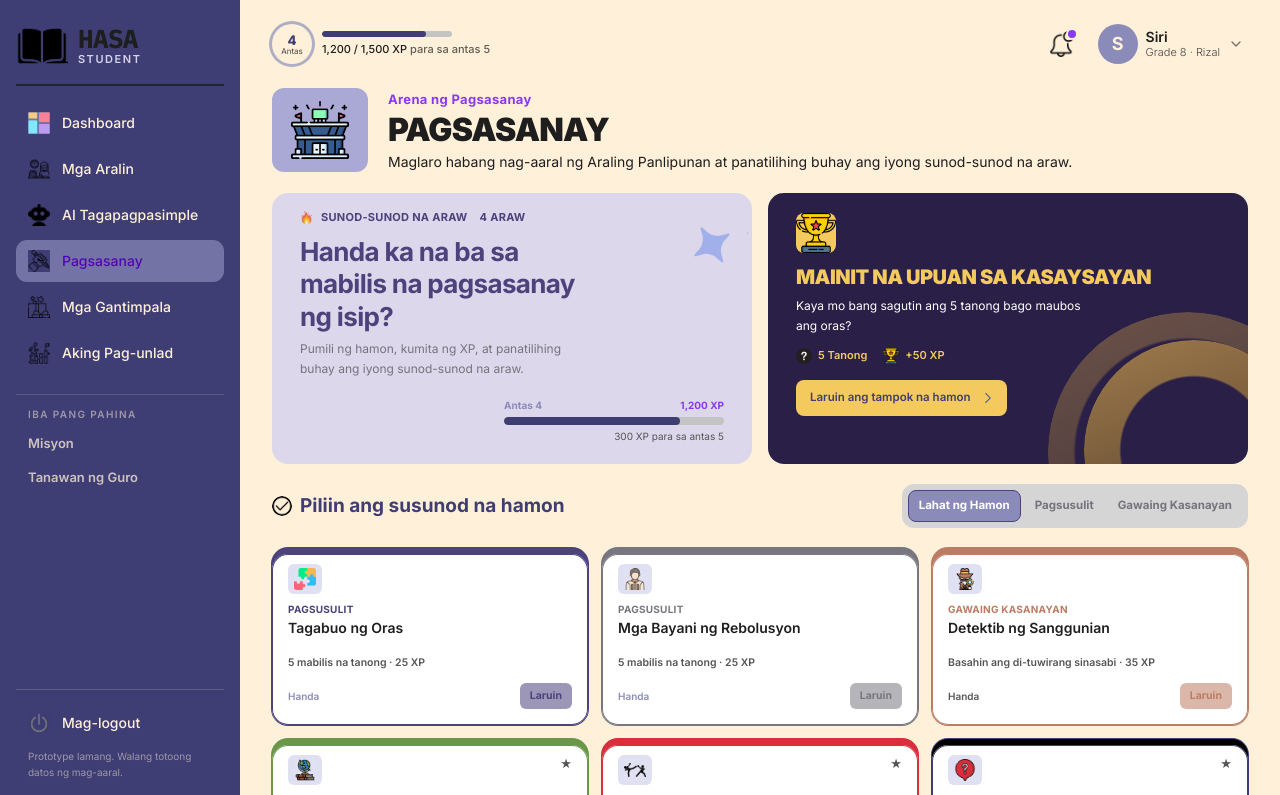
Test: katapatan ng prototype › nagbubukas ng totoong activity mula sa Pagsasanay
Expected: the button with aria-label "Laruin ang" is enabled, [520,683,572,709]
What coordinates should you click on to do the following:
click the button "Laruin ang tampok na hamon"
I would click on:
 (901, 398)
Its box is [796,380,1007,416].
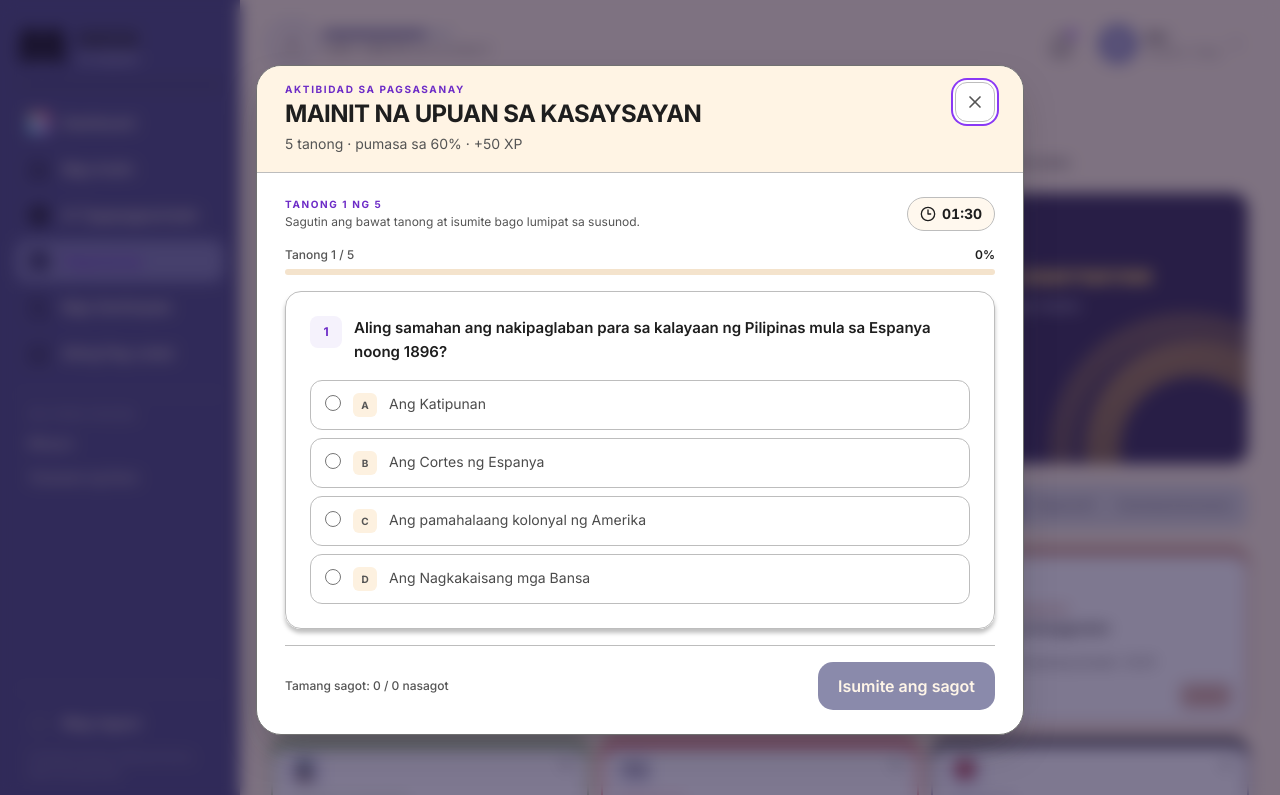
Result: the dialog "MAINIT NA UPUAN SA KASAYSAYAN" is shown at [256,65,1024,735]
Result: the element showing "01:30" is shown at [907,196,995,230]
